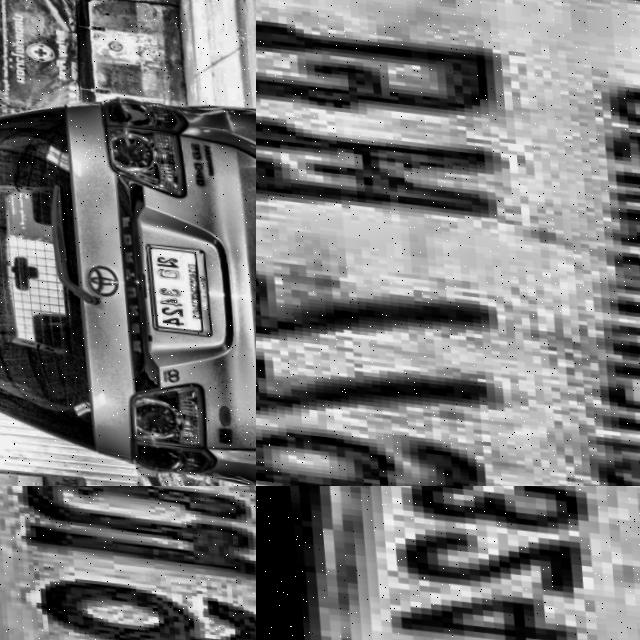license-plate: (256, 0, 640, 486), (256, 486, 640, 640), (0, 486, 256, 640), (136, 234, 213, 329)
